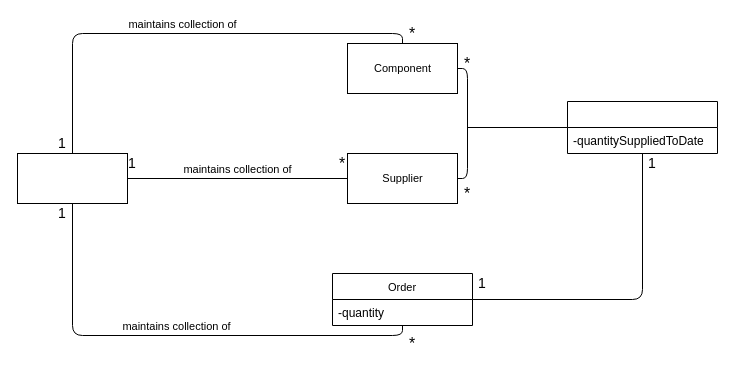
Image size: 735x370. Some labels were removed from this diagram. The shapes that lost their labels are listed below. From the top down, each one's box as (x1, y1, x2, y2) in pixels, then its label:
(566, 100, 718, 154): ComponentSupplierRelation
(16, 152, 128, 204): Company
